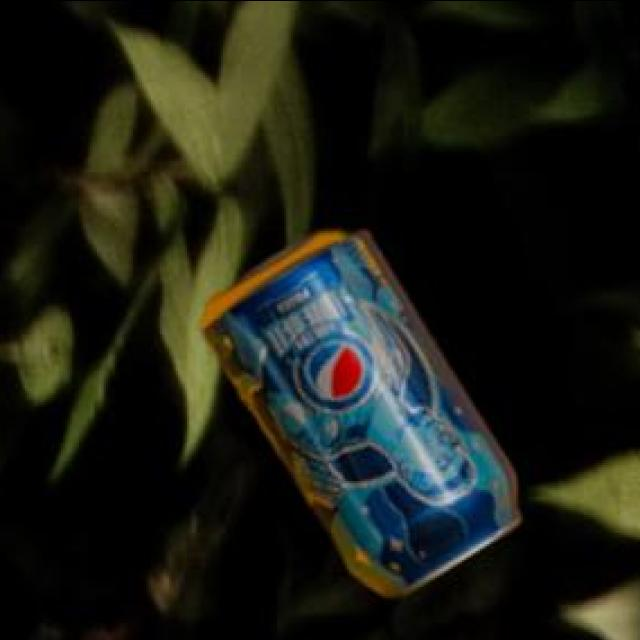logam: (204, 229, 522, 592)
